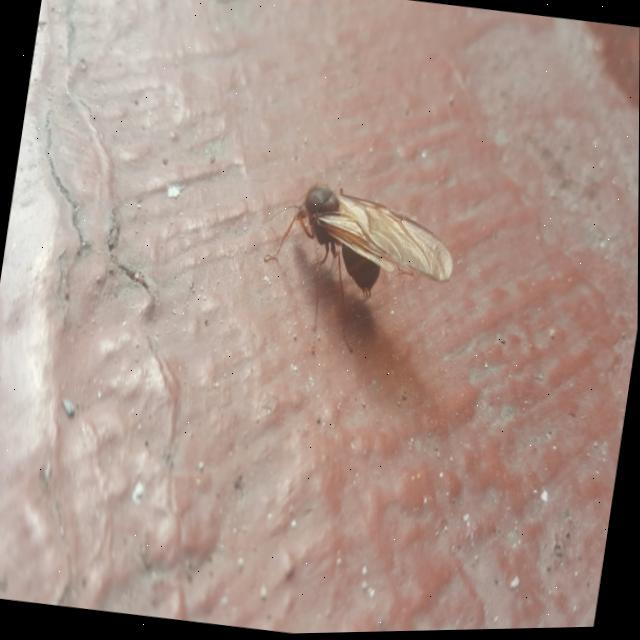Alive-Male-Alate: (251, 176, 463, 375)
